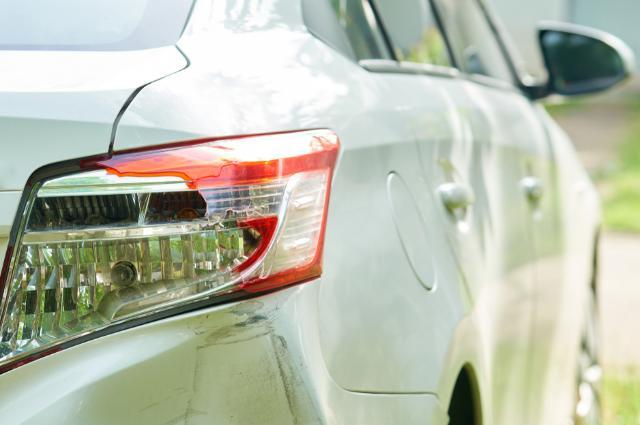Bumper: (156, 298, 324, 425)
Light: (16, 149, 338, 313)
